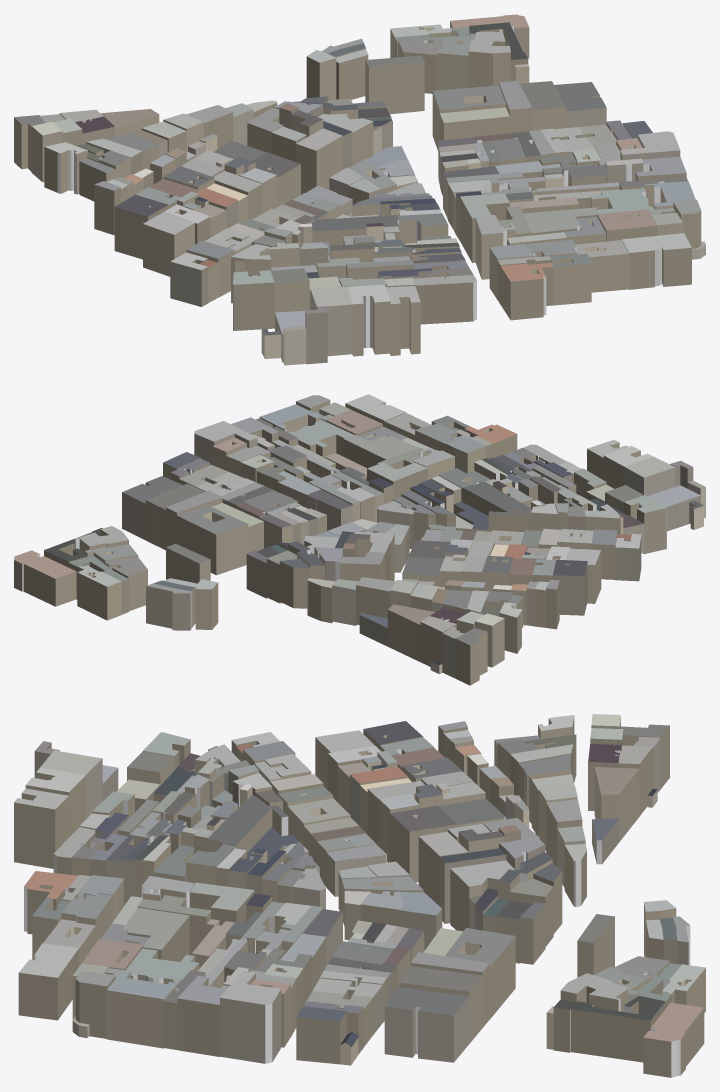
3 renders of one model, top to bottom at view 1: azimuth 30°, elevation 25°; view 2: azimuth 150°, elevation 25°; view 3: azimuth 270°, elevation 25°, orthographic. The views are drawn at different scales.
Parts seen in each view (by area): view 1: tuile; view 2: tuile; view 3: tuile.
Part boxes in pixels (x1,y1,x2,y2): tuile: [14, 14, 705, 365]; tuile: [14, 394, 705, 685]; tuile: [14, 714, 705, 1077].
Size of the model in its own units: 271 by 33.87 by 266.
